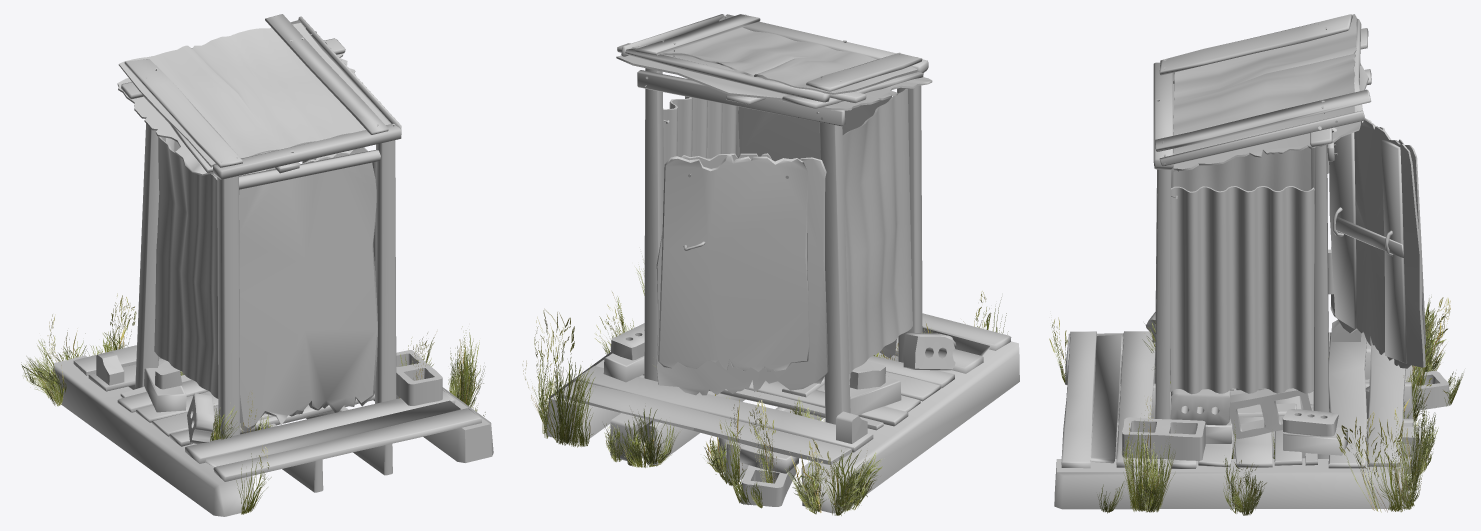
The model's file is rural_toilet_1.fbx.
3 renders of one model, left to right at view 1: azimuth 30°, elevation 25°; view 2: azimuth 150°, elevation 25°; view 3: azimuth 270°, elevation 25°, orthographic. The views are drawn at different scales.
Parts seen in each view (by area): view 1: toilet, grass; view 2: toilet, grass; view 3: toilet, grass.
Part boxes in pixels (<box>): toilet: <box>53,14,493,516</box>; grass: <box>21,293,485,514</box>; toilet: <box>546,14,1019,513</box>; grass: <box>522,256,1008,515</box>; toilet: <box>1054,14,1449,509</box>; grass: <box>1049,296,1463,515</box>.
Bounding box in the file's own units: 213 × 213 × 213.
